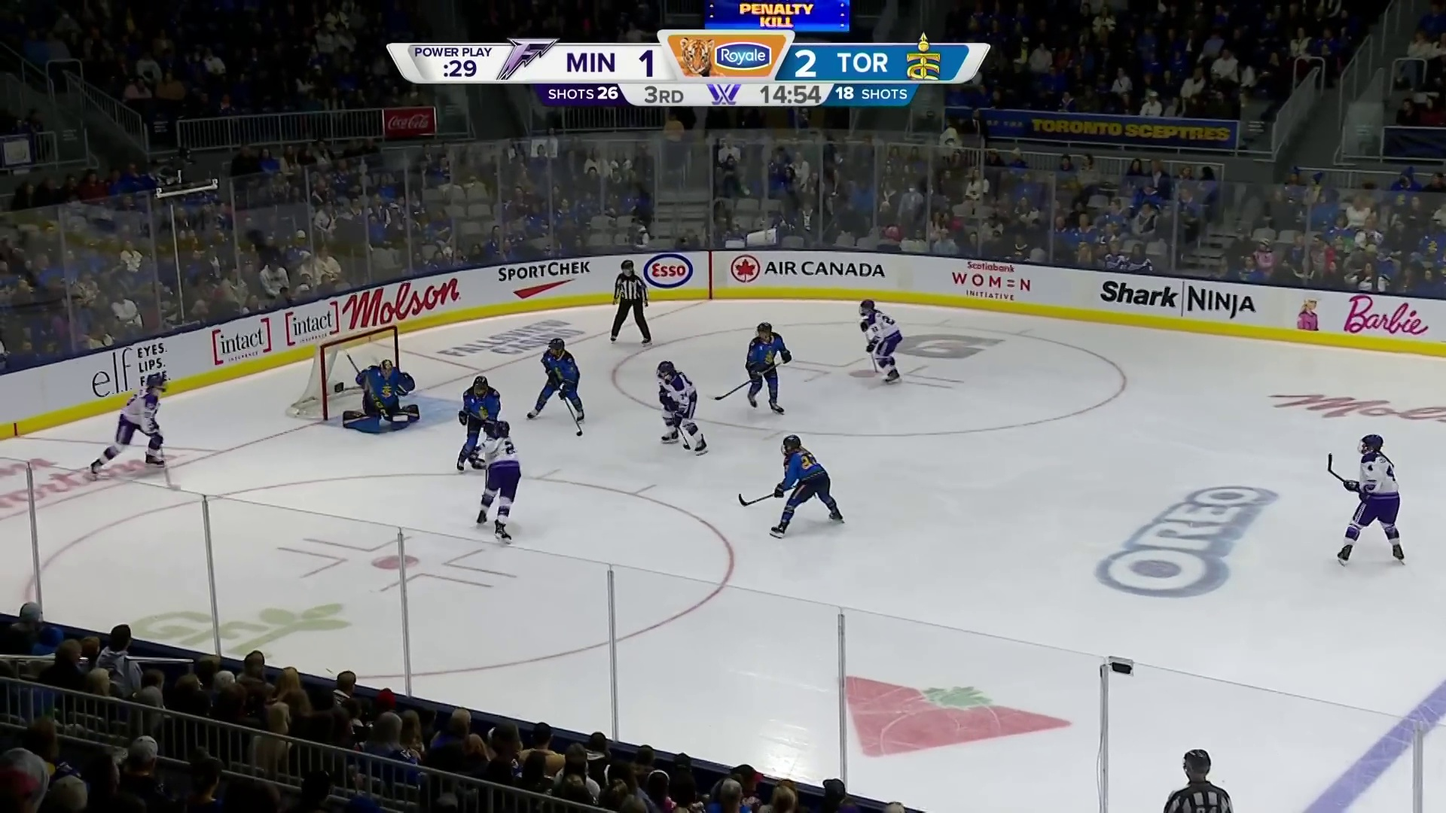goaltender: (341, 359, 421, 431)
player: (1336, 434, 1406, 567), (88, 371, 169, 479), (771, 433, 844, 537), (477, 419, 521, 542), (655, 360, 709, 454), (527, 338, 585, 423), (743, 320, 793, 415), (858, 298, 903, 384)
referee: (609, 259, 654, 346)
